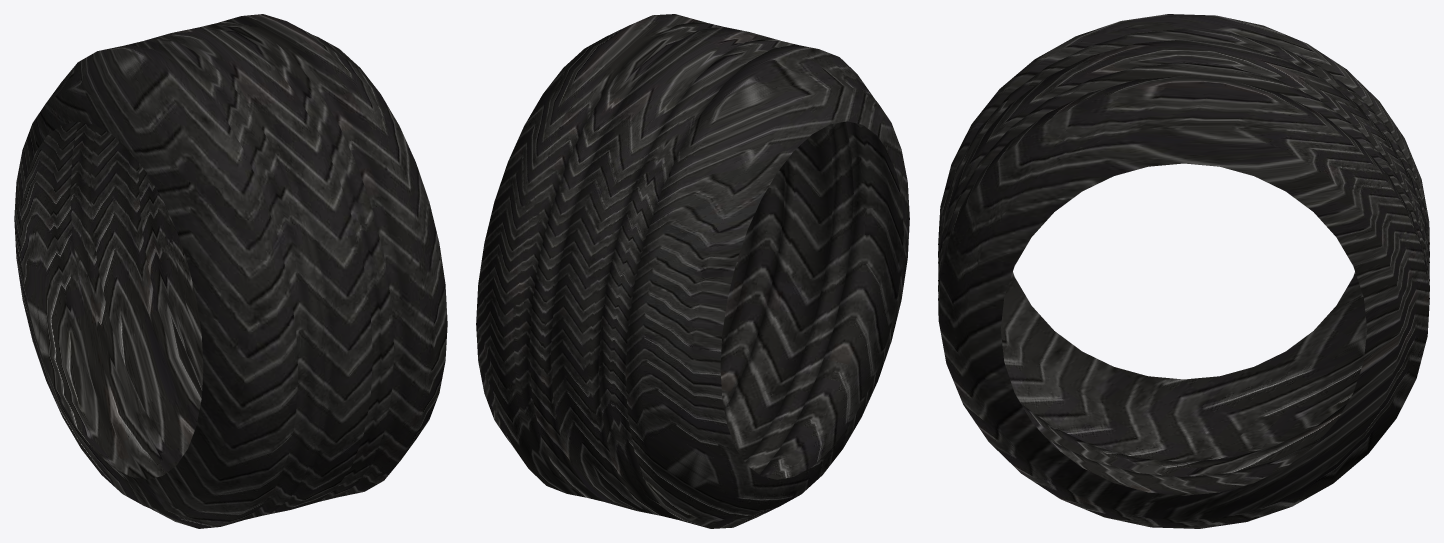
File: tire.fbx
3 views of the same model, side by side, from view 1: azimuth 30°, elevation 25°; view 2: azimuth 150°, elevation 25°; view 3: azimuth 270°, elevation 25° (orthographic).
Visible parts, largest first — view 1: Circle; view 2: Circle; view 3: Circle.
Part boxes in pixels (x1=…): Circle: x1=14, y1=14, x2=447, y2=528; Circle: x1=476, y1=14, x2=909, y2=528; Circle: x1=938, y1=14, x2=1429, y2=528.
Bounding box in the file's own units: 157 × 281 × 281.
